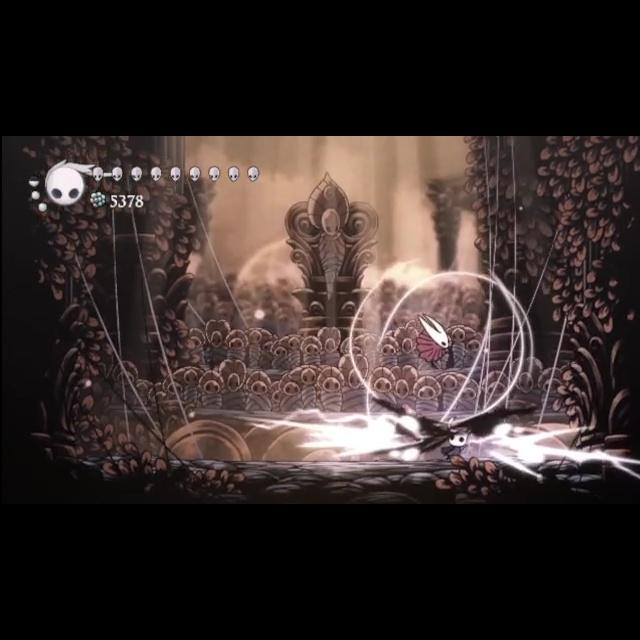EnemyAirAttack: (404, 308, 466, 374)
PlayerDamaged: (434, 416, 480, 466)
